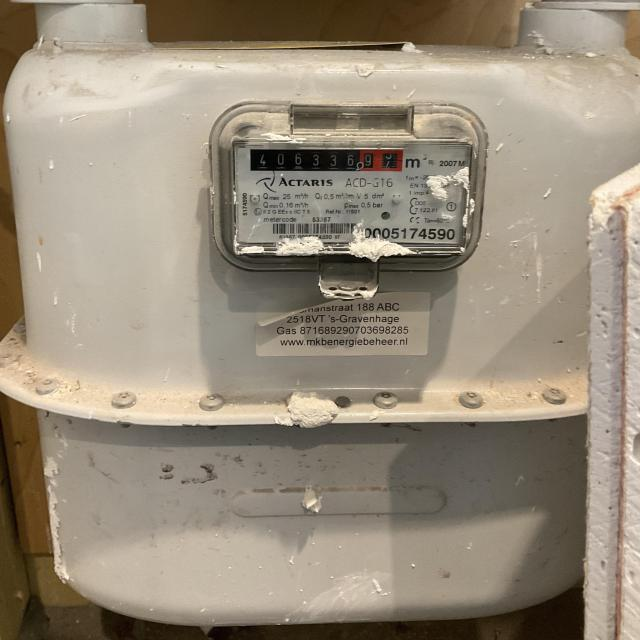gaz_meter: (227, 139, 472, 258)
indication: (250, 147, 405, 171)
